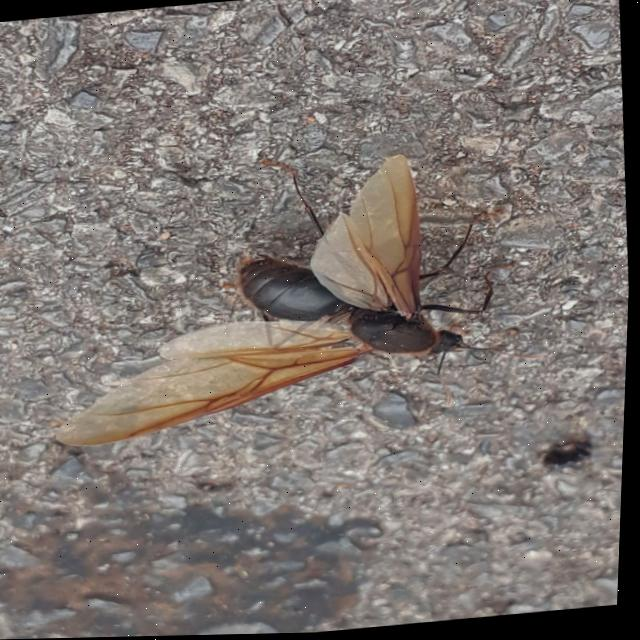Alive-Male-Alate: (38, 144, 542, 451)
